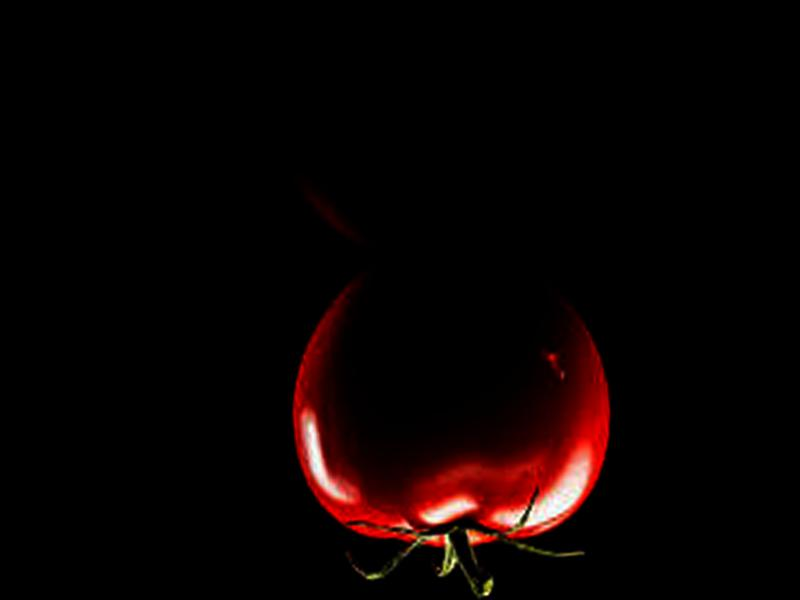Tomato: (281, 253, 622, 567)
